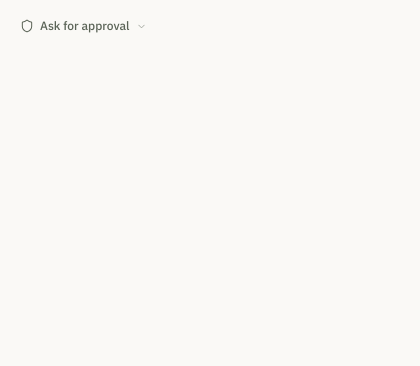
it: disables review when no model is configured
Press the mouse on the button with aria-label "Permissions:": (83, 26) [12, 12, 154, 40]
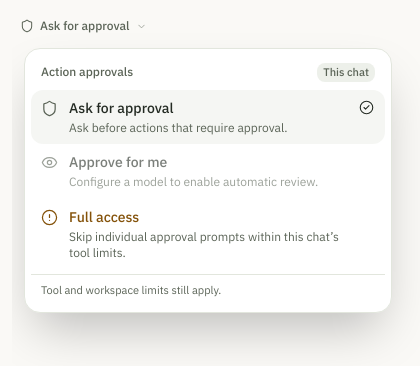
Check: the menu item "Ask for approval Ask before actions that require approval." is shown, box [31, 90, 385, 144]
